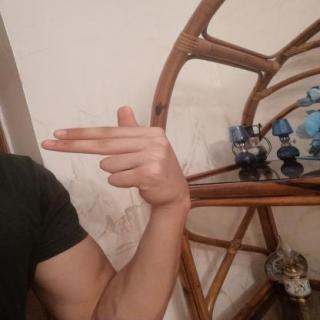GHAYN: (31, 100, 194, 214)
